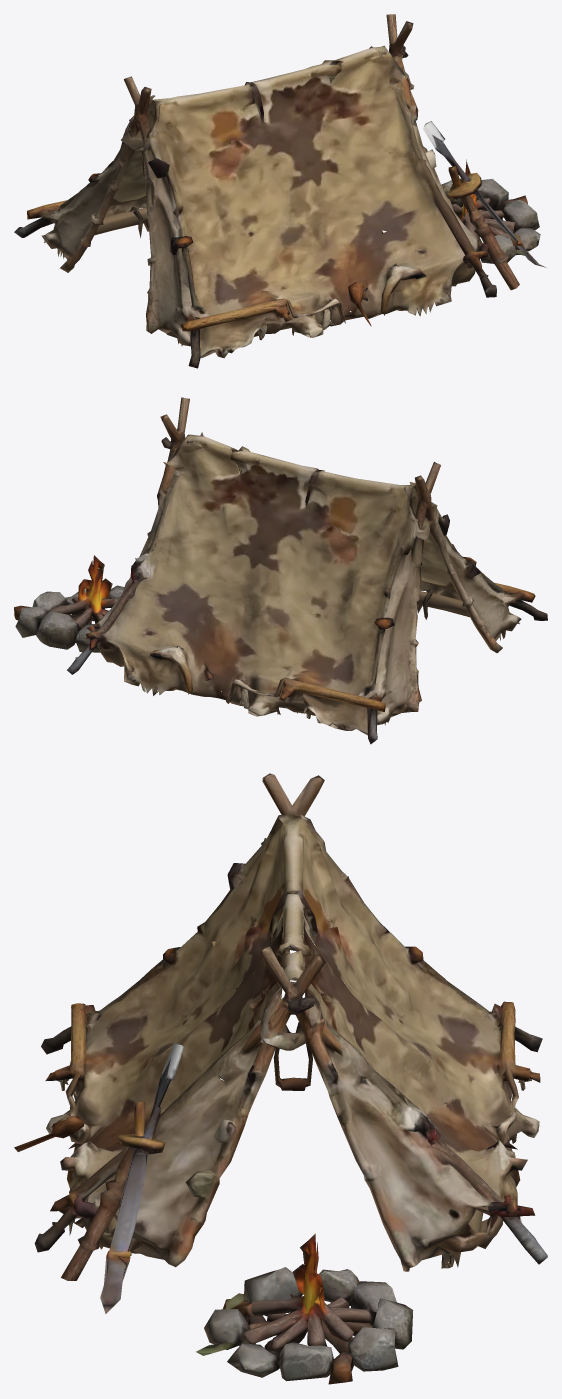
File: bandit-tent.glb
The picture shows the model from 3 angles, top to bottom: view 1: azimuth 30°, elevation 25°; view 2: azimuth 150°, elevation 25°; view 3: azimuth 270°, elevation 25°; orthographic projection. The views are drawn at different scales.
Visible parts, largest first — view 1: tripo_node_dcc7ba4d-553b-40e2-a859-b3fe3bdff460; view 2: tripo_node_dcc7ba4d-553b-40e2-a859-b3fe3bdff460; view 3: tripo_node_dcc7ba4d-553b-40e2-a859-b3fe3bdff460.
Boxes of the visible parts, x1,y1,x2,y2 form: tripo_node_dcc7ba4d-553b-40e2-a859-b3fe3bdff460: (14, 14, 546, 368); tripo_node_dcc7ba4d-553b-40e2-a859-b3fe3bdff460: (14, 397, 547, 744); tripo_node_dcc7ba4d-553b-40e2-a859-b3fe3bdff460: (14, 773, 547, 1384).
Bounding box in the file's own units: 1 × 0.5319 × 0.7474.
Materials: 1 (1 with a texture image).
